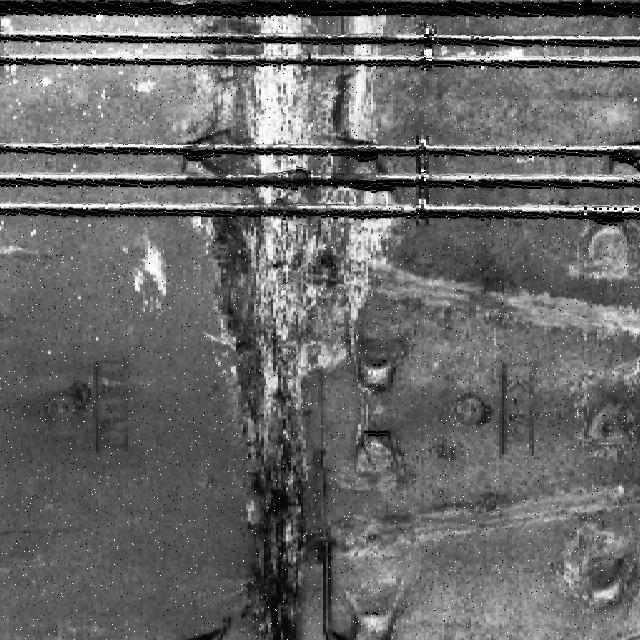leakage: (173, 3, 397, 640)
